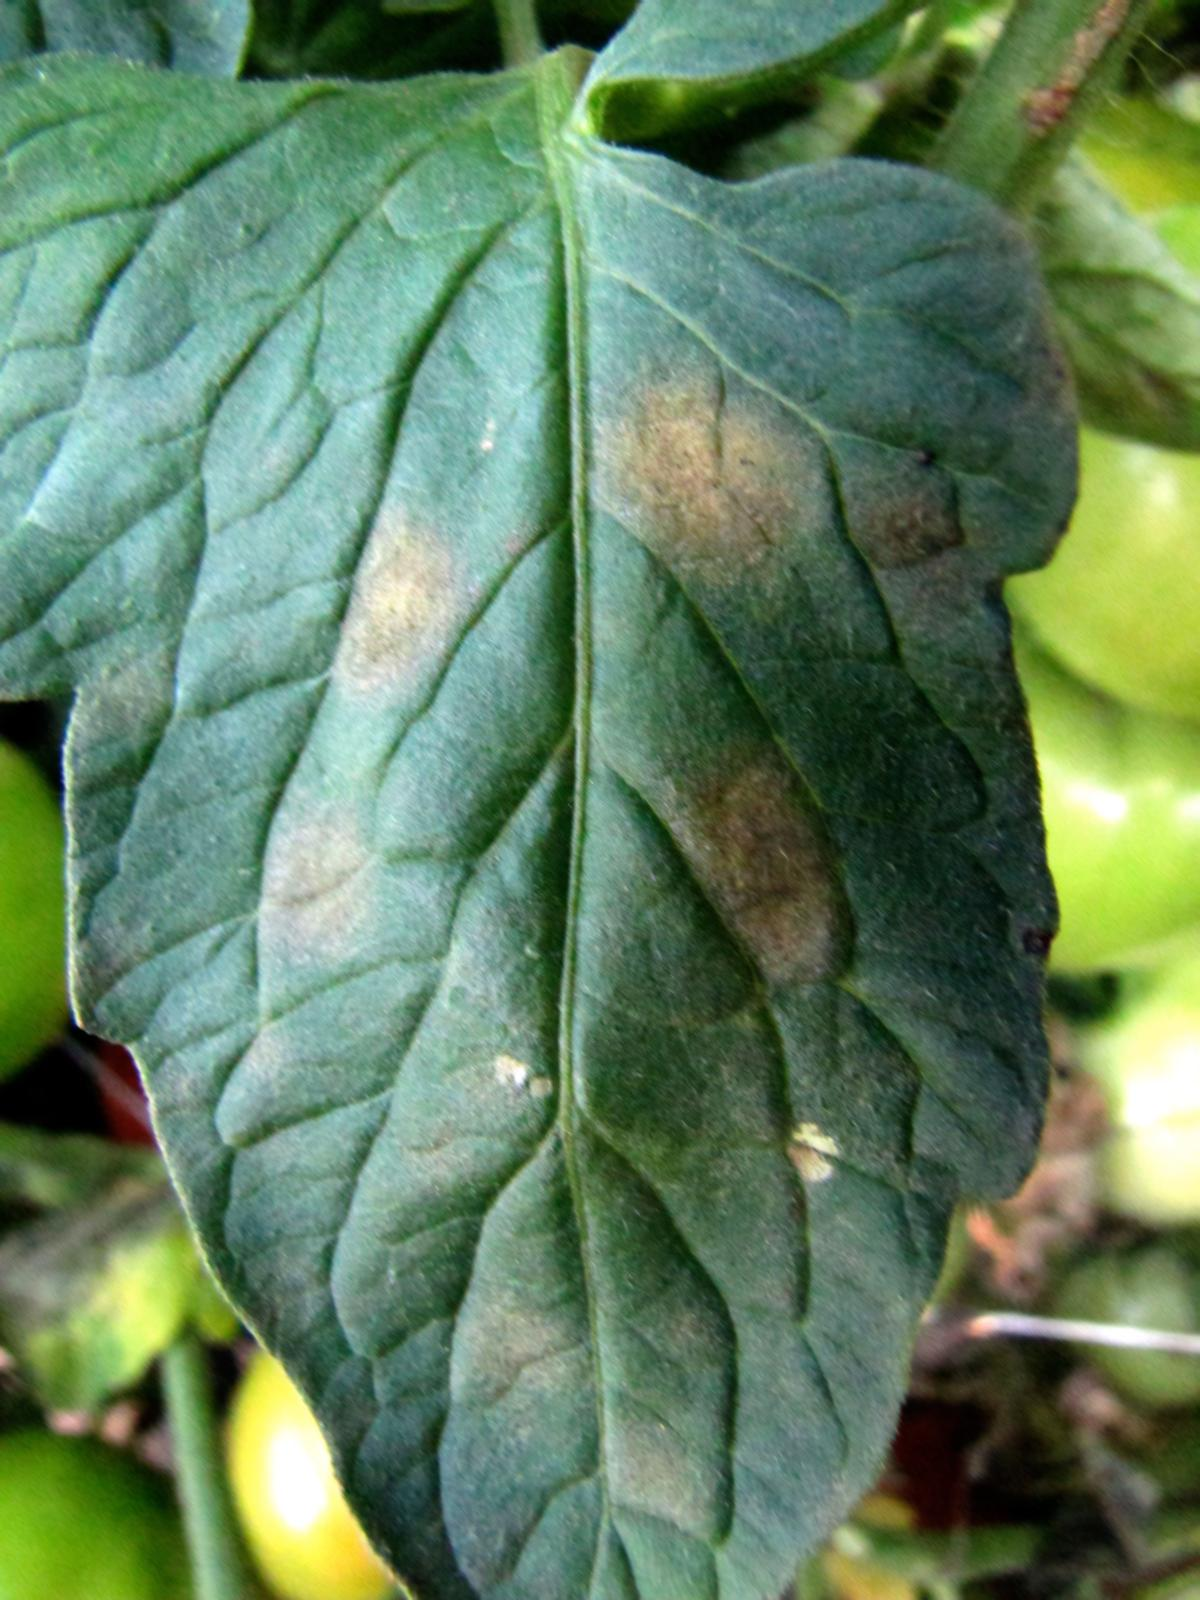Tomato mold leaf: (18, 29, 1082, 1600)
